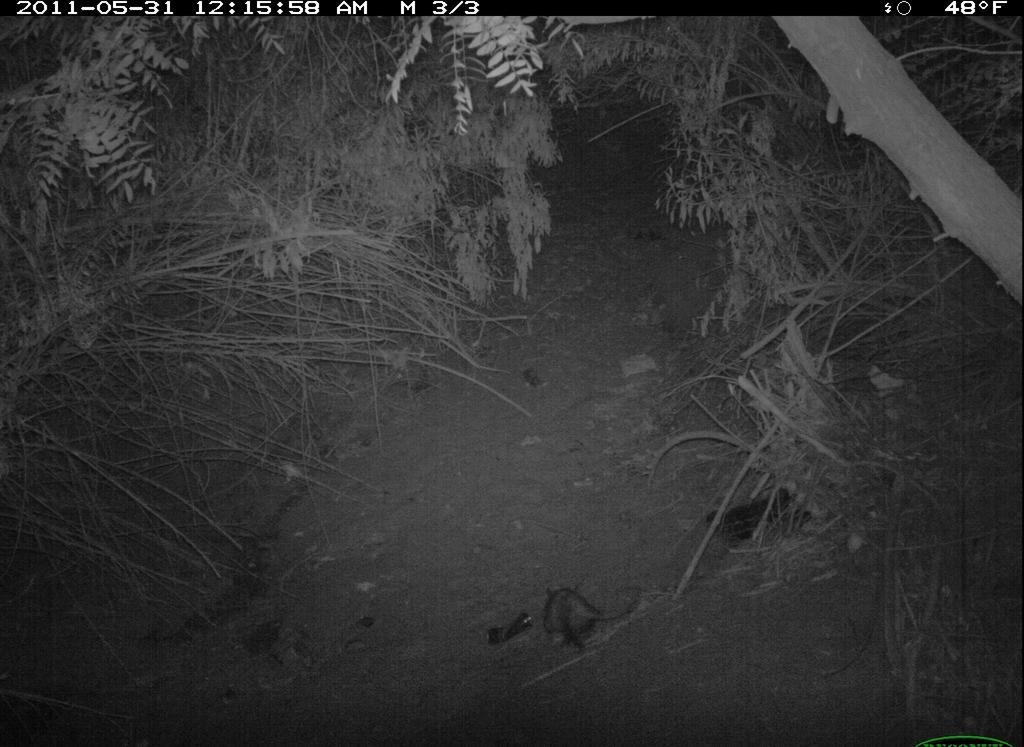opossum: (537, 571, 644, 662)
